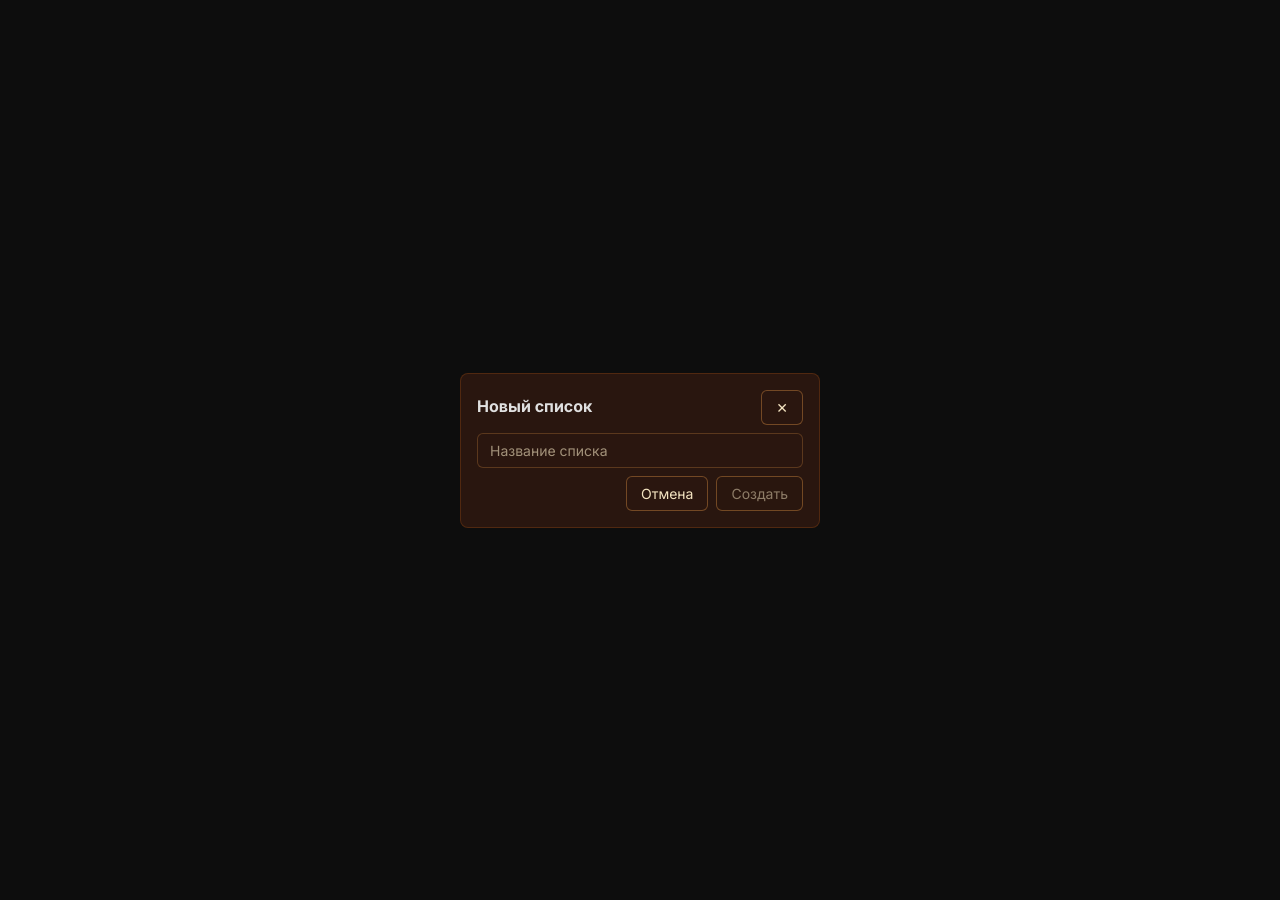
CreateListModal › should enable create button when title is not empty
Step 1. Type "My List" into the field with placeholder "Название списка" → (640, 450), box x1=477 y1=432 x2=803 y2=468
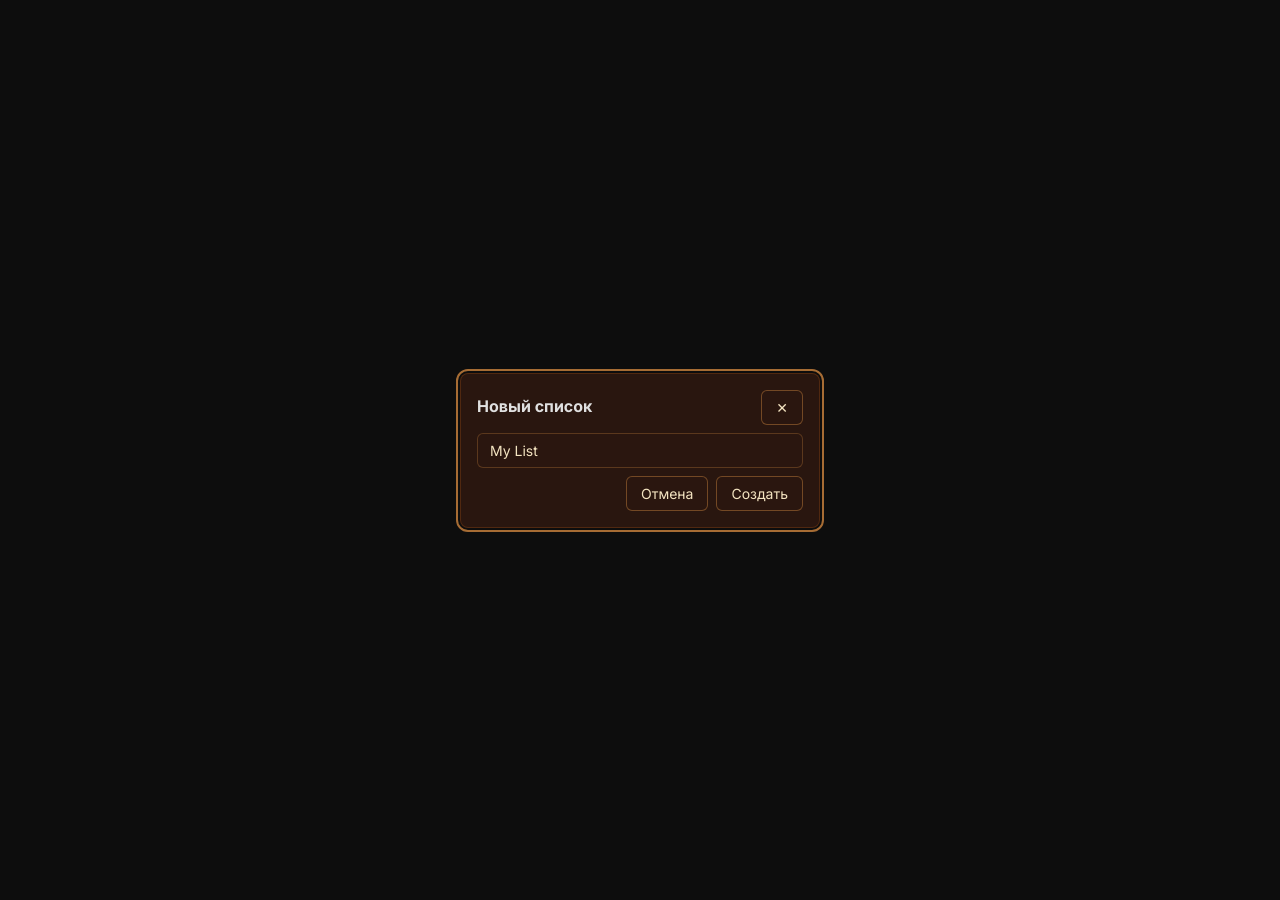
expect the button "Создать" is enabled: met, box x1=716 y1=476 x2=803 y2=510
